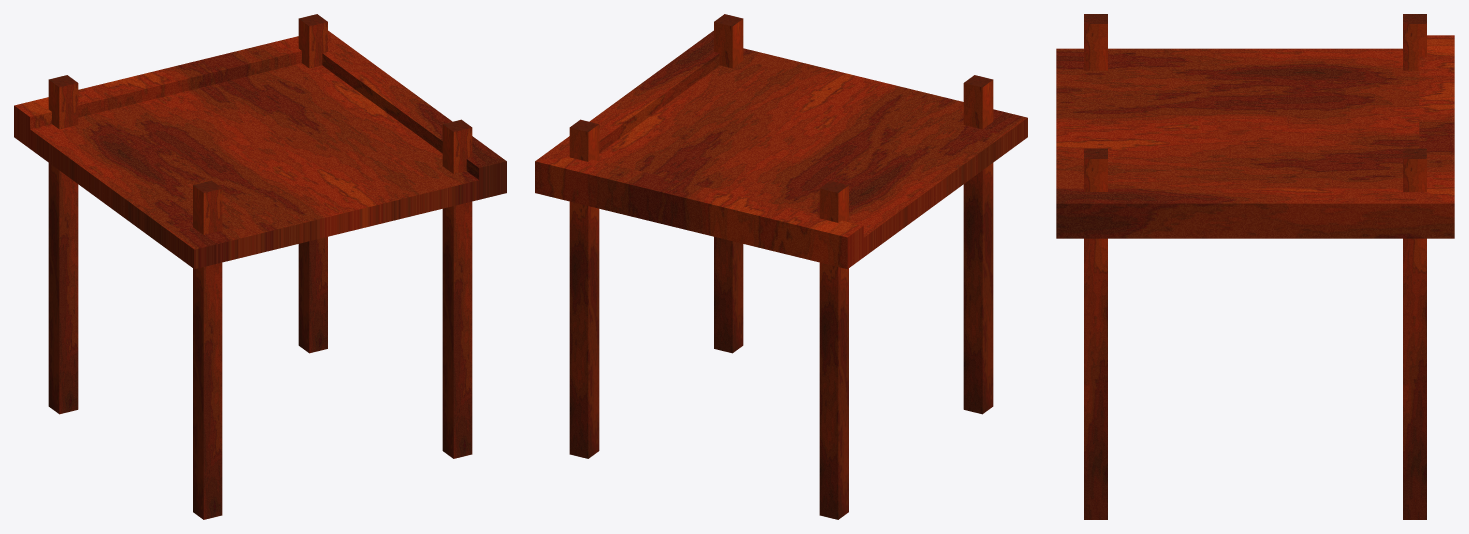
File: Pier_curve_01_unity.fbx
3 renders of one model, left to right at view 1: azimuth 30°, elevation 25°; view 2: azimuth 150°, elevation 25°; view 3: azimuth 270°, elevation 25°, orthographic. The views are drawn at different scales.
Visible parts, largest first — view 1: Pier_curve; view 2: Pier_curve; view 3: Pier_curve.
Boxes of the visible parts, x1,y1,x2,y2 form: Pier_curve: [14, 14, 506, 519]; Pier_curve: [535, 14, 1027, 519]; Pier_curve: [1056, 14, 1454, 519].
Size of the model in its own units: 5 by 5 by 5.
